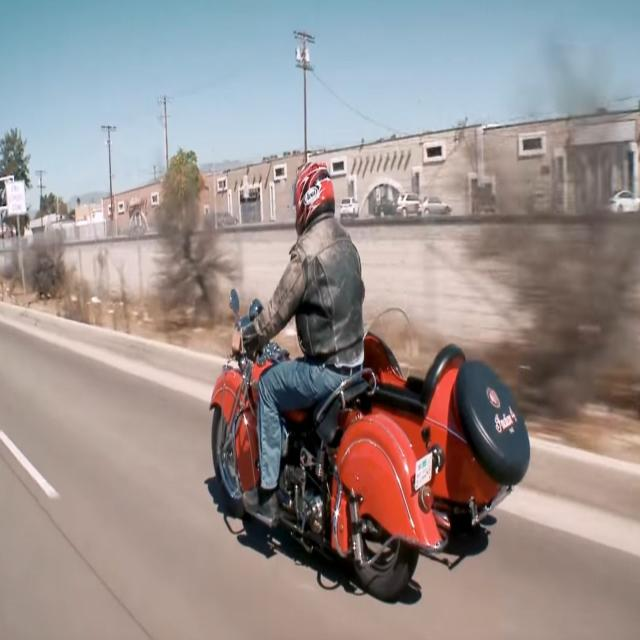motorcycle: (210, 162, 531, 601)
